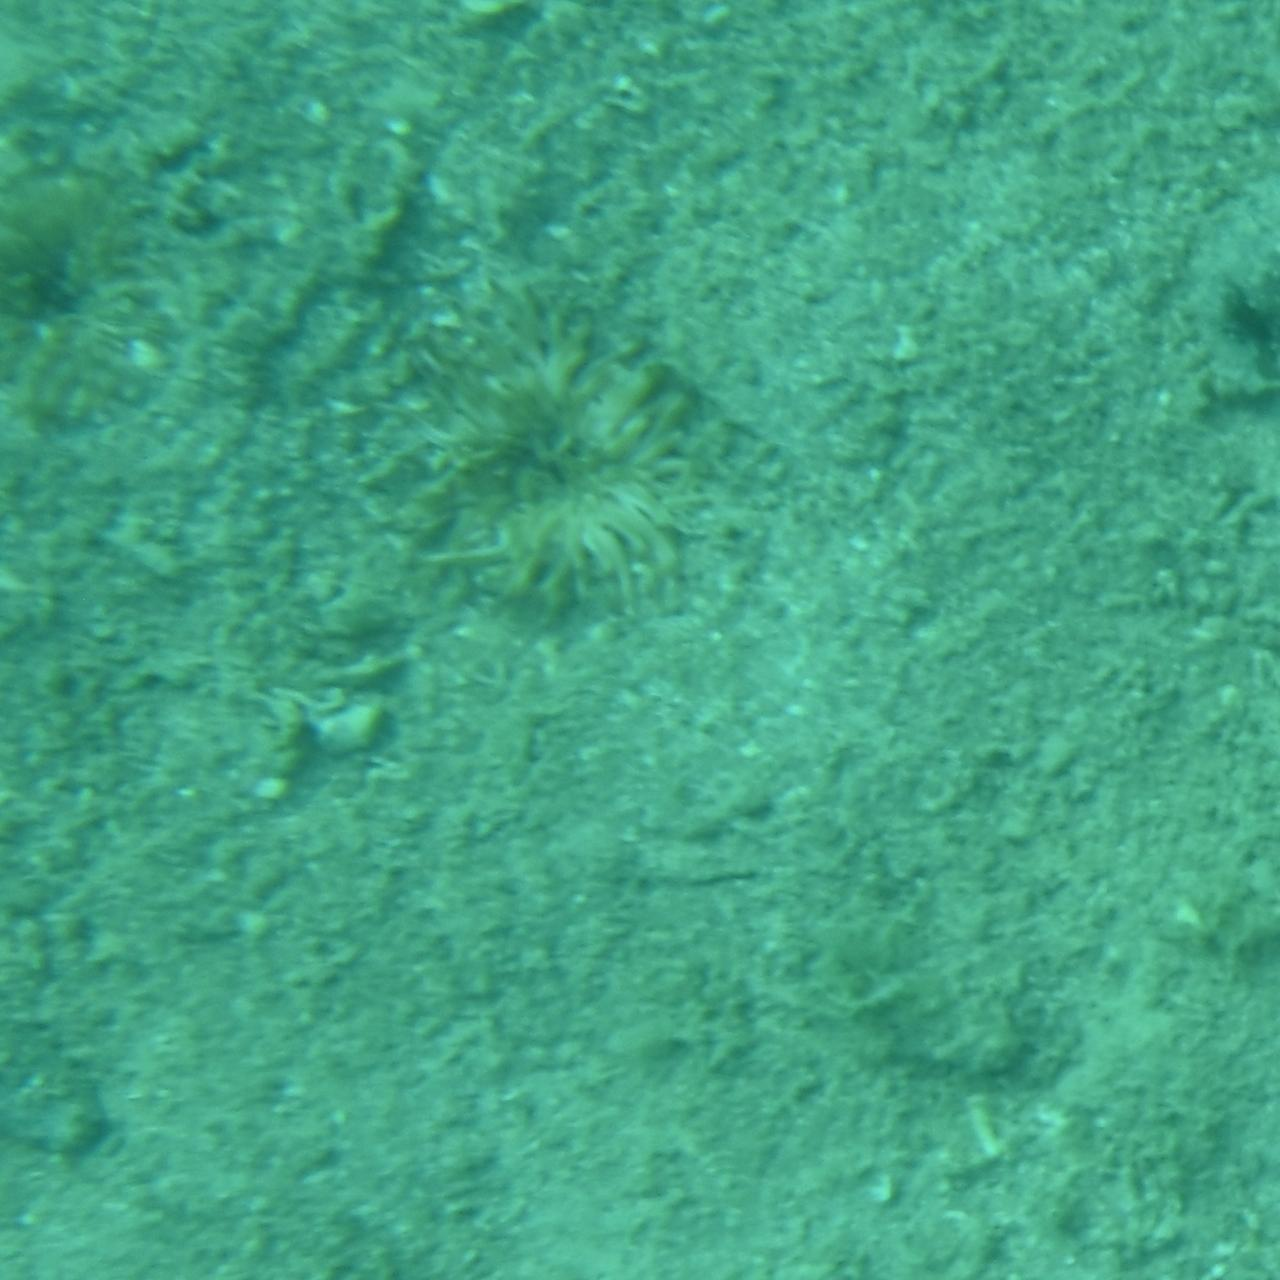Condylactis aurantiaca: (397, 290, 770, 615), (0, 141, 211, 429)
Holothuria tubulosa: (1017, 161, 1280, 436), (0, 842, 231, 1150)
